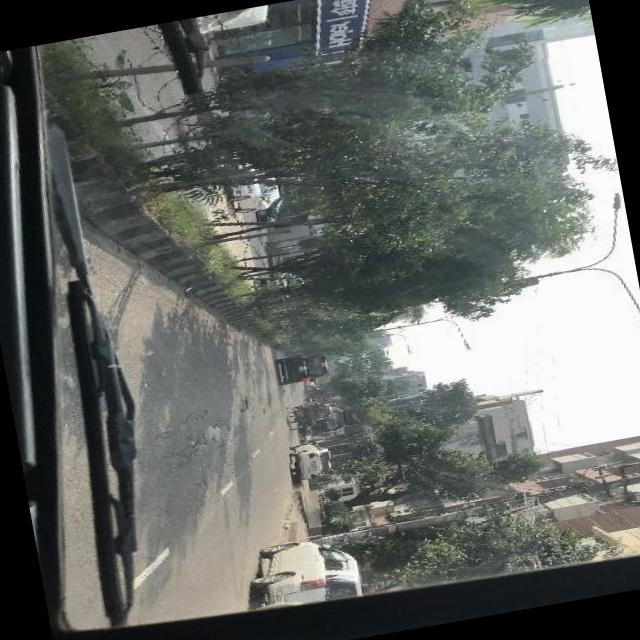car: (247, 532, 364, 612), (288, 439, 335, 482), (230, 182, 282, 216)
motorcycle: (285, 400, 331, 423), (290, 418, 332, 432)
truck: (274, 350, 330, 388)
